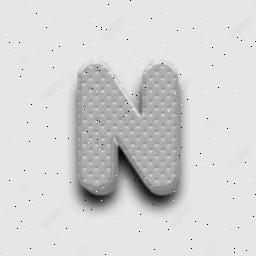n: (67, 49, 189, 211)
